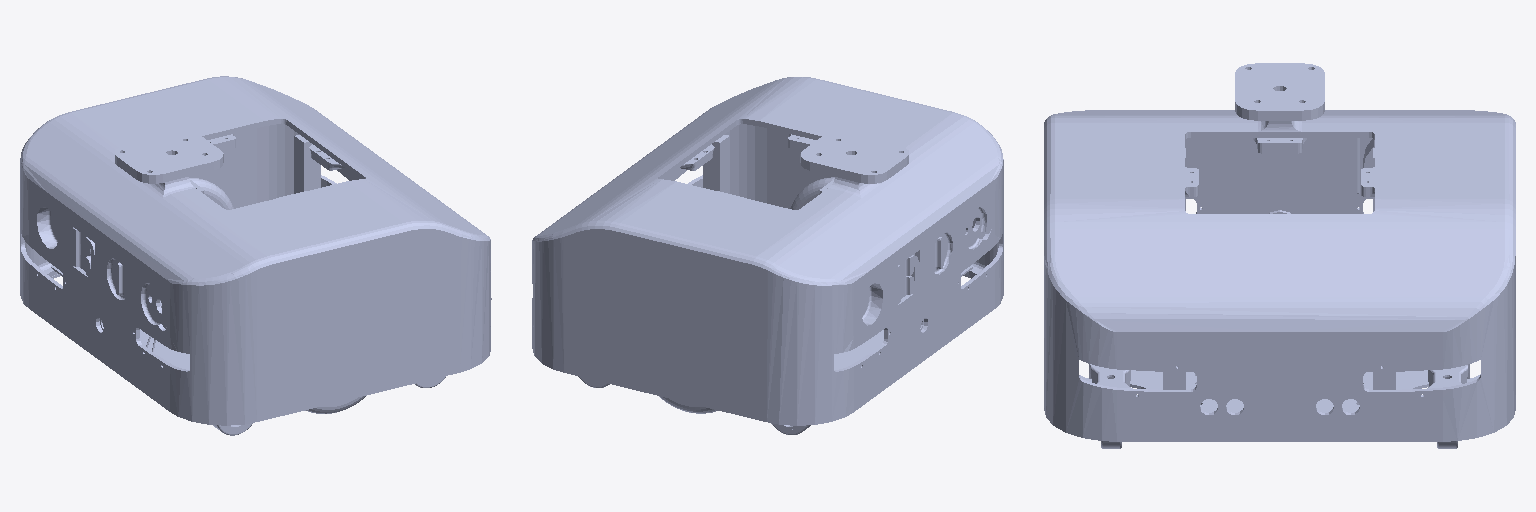
URDF robot description (urdf_assem):
<?xml version="1.0" encoding="utf-8"?>
<!-- This URDF was automatically created by SolidWorks to URDF Exporter! Originally created by [author] ([email redacted]) 
     Commit Version: 1.6.0-4-g7f85cfe  Build Version: 1.6.7995.38578
     For more information, please see http://wiki.ros.org/sw_urdf_exporter -->
<robot
  name="urdf_assem">
  <!-- add virtual joint between base_link and base_footprint-->
  <link name="base_footprint" />
  <joint name="base_footprint_joint" type="fixed">
  <origin
    xyz="0 0 0" rpy="0 0 0" />
  <parent link="base_footprint" />
  <child link="base_link" />
  </joint>

  <link
    name="base_link">
    <inertial>
      <origin
        xyz="-0.010357 0.00080258 0.12082"
        rpy="0 0 0" />
      <mass
        value="3.3192" />
      <inertia
        ixx="0.058318"
        ixy="0.00047719"
        ixz="0.0017019"
        iyy="0.049572"
        iyz="1.0982E-05"
        izz="0.090114" />
    </inertial>
    <visual>
      <origin
        xyz="0 0 0"
        rpy="0 0 0" />
      <geometry>
        <mesh
          filename="package://urdf_assem/meshes/base_link.STL" />
      </geometry>
      <material
        name="">
        <color
          rgba="0.79216 0.81961 0.93333 1" />
      </material>
    </visual>
    <collision>
      <origin
        xyz="0 0 0"
        rpy="0 0 0" />
      <geometry>
        <mesh
          filename="package://urdf_assem/meshes/base_link.STL" />
      </geometry>
    </collision>
  </link>
  <link
    name="right_wheel">
    <inertial>
      <origin
        xyz="-2.0625E-14 6.3921E-14 -2.6336E-05"
        rpy="0 0 0" />
      <mass
        value="0.15848" />
      <inertia
        ixx="0.00022462"
        ixy="-4.5023E-17"
        ixz="-2.5332E-17"
        iyy="0.00022462"
        iyz="7.5116E-17"
        izz="0.00043866" />
    </inertial>
    <visual>
      <origin
        xyz="0 0 0"
        rpy="0 0 0" />
      <geometry>
        <mesh
          filename="package://urdf_assem/meshes/right_wheel.STL" />
      </geometry>
      <material
        name="">
        <color
          rgba="0.79216 0.81961 0.93333 1" />
      </material>
    </visual>
    <collision>
      <origin
        xyz="0 0 0"
        rpy="0 0 0" />
      <geometry>
        <mesh
          filename="package://urdf_assem/meshes/right_wheel.STL" />
      </geometry>
    </collision>
  </link>
  <joint
    name="right_wheel_joint"
    type="continuous">
    <origin
      xyz="0.0005 -0.15942 0.06705"
      rpy="-1.5708 0 3.1416" />
    <parent
      link="base_link" />
    <child
      link="right_wheel" />
    <axis
      xyz="0 0 -1" />
  </joint>
  <link
    name="left_wheel">
    <inertial>
      <origin
        xyz="-3.1701E-14 5.9328E-14 2.6336E-05"
        rpy="0 0 0" />
      <mass
        value="0.15848" />
      <inertia
        ixx="0.00022462"
        ixy="-8.1434E-17"
        ixz="3.6455E-17"
        iyy="0.00022462"
        iyz="-7.0373E-17"
        izz="0.00043866" />
    </inertial>
    <visual>
      <origin
        xyz="0 0 0"
        rpy="0 0 0" />
      <geometry>
        <mesh
          filename="package://urdf_assem/meshes/left_wheel.STL" />
      </geometry>
      <material
        name="">
        <color
          rgba="0.79216 0.81961 0.93333 1" />
      </material>
    </visual>
    <collision>
      <origin
        xyz="0 0 0"
        rpy="0 0 0" />
      <geometry>
        <mesh
          filename="package://urdf_assem/meshes/left_wheel.STL" />
      </geometry>
    </collision>
  </link>
  <joint
    name="left_wheel_joint"
    type="continuous">
    <origin
      xyz="0.0005 0.15807 0.06705"
      rpy="-1.5708 0 0" />
    <parent
      link="base_link" />
    <child
      link="left_wheel" />
    <axis
      xyz="0 0 1" />
  </joint>
  <link
    name="laser">
    <inertial>
      <origin
        xyz="0.010632 -0.0016703 -0.018432"
        rpy="0 0 0" />
      <mass
        value="0.073084" />
      <inertia
        ixx="1.9581E-05"
        ixy="-1.0387E-07"
        ixz="-4.2835E-07"
        iyy="2.4125E-05"
        iyz="9.4546E-09"
        izz="4.1418E-05"  />
    </inertial>
    <visual>
      <origin
        xyz="0 0 0"
        rpy="0 0 0" />
      <geometry>
        <mesh
          filename="package://urdf_assem/meshes/lidar.STL" />
      </geometry>
      <material
        name="">
        <color
          rgba="0.79216 0.81961 0.93333 1" />
      </material>
    </visual>
    <collision>
      <origin
        xyz="0 0 0"
        rpy="0 0 0" />
      <geometry>
        <mesh
          filename="package://urdf_assem/meshes/lidar.STL" />
      </geometry>
    </collision>
  </link>
  <joint
    name="laser_joint" type="fixed">
    <origin
      xyz="-0.11245 0.0011383 0.29097"
      rpy="0 0 0" />
    <parent
      link="base_link" />
    <child
      link="laser" />
    <axis
      xyz="0 0 0" />
  </joint>

  <gazebo reference="laser">
    <material>Gazebo/FlatBlack</material>
    <sensor type="ray" name="lds_lfcd_sensor">
      <pose>0 0 0 0 0 0</pose>
      <visualize>false</visualize>
      <update_rate>5</update_rate>
      <ray>
        <scan>
          <horizontal>
            <samples>360</samples>
            <resolution>1</resolution>
            <min_angle>0.0</min_angle>
            <max_angle>6.28319</max_angle>
          </horizontal>
        </scan>
        <range>
          <min>0.120</min>
          <max>10.0</max>
          <resolution>0.015</resolution>
        </range>
        <noise>
          <type>gaussian</type>
          <mean>0.0</mean>
          <stddev>0.01</stddev>
        </noise>
      </ray>
      <plugin name="gazebo_ros_lds_lfcd_controller" filename="libgazebo_ros_laser.so">
        <topicName>base_scan</topicName>
        <frameName>laser</frameName>
      </plugin>
    </sensor>
  </gazebo>

  <link name="imu_link"/>

  <joint name="imu_joint" type="fixed">
    <origin xyz="0 0 0.1" rpy="0 0 0"/>
    <parent link="base_link"/>
    <child link="imu_link"/>
  </joint>

  <gazebo>
    <plugin name="gazebo_ros_control" filename="libgazebo_ros_control.so">
    </plugin>
  </gazebo>

  <transmission name="tran1">
    <type>transmission_interface/SimpleTransmission</type>
    <joint name="right_wheel_joint">
      <hardwareInterface>hardware_interface/VelocityJointInterface</hardwareInterface>
    </joint>
    <actuator name="motor1">
      <!-- <hardwareInterface>hardware_interface/VelocityJointInterface</hardwareInterface> -->
      <mechanicalReduction>1</mechanicalReduction>
    </actuator>
  </transmission>

  <transmission name="tran2">
    <type>transmission_interface/SimpleTransmission</type>
    <joint name="left_wheel_joint">
      <hardwareInterface>hardware_interface/VelocityJointInterface</hardwareInterface>
    </joint>
    <actuator name="motor2">
      <!-- <hardwareInterface>hardware_interface/VelocityJointInterface</hardwareInterface> -->
      <mechanicalReduction>1</mechanicalReduction>
    </actuator>
  </transmission>
</robot>

--- What the picture shows (computed from the rendered views, not written in the file) ---
The picture shows the robot from 3 angles, left to right: view 1: azimuth 30°, elevation 25°; view 2: azimuth 150°, elevation 25°; view 3: azimuth 270°, elevation 25°; orthographic projection.
Robot: urdf_assem — 6 links, 5 joints (2 continuous, 3 fixed); root link base_footprint; default pose: every joint at zero.
Links seen in each view (by area): view 1: base_link, left_wheel; view 2: base_link, right_wheel; view 3: base_link.
Link boxes in pixels (bbox=[...]): base_link: bbox=[20, 76, 491, 435]; left_wheel: bbox=[189, 178, 233, 209]; base_link: bbox=[532, 77, 1003, 434]; right_wheel: bbox=[790, 177, 834, 209]; base_link: bbox=[1044, 63, 1515, 448].
Size in the robot's own frame: 0.37 by 0.42 by 0.2518 metres.
Meshes: 4 distinct files referenced, 3 mesh visuals loaded (3 binary STL); not drawn: 1 (reference not matched to a file when rendering).
